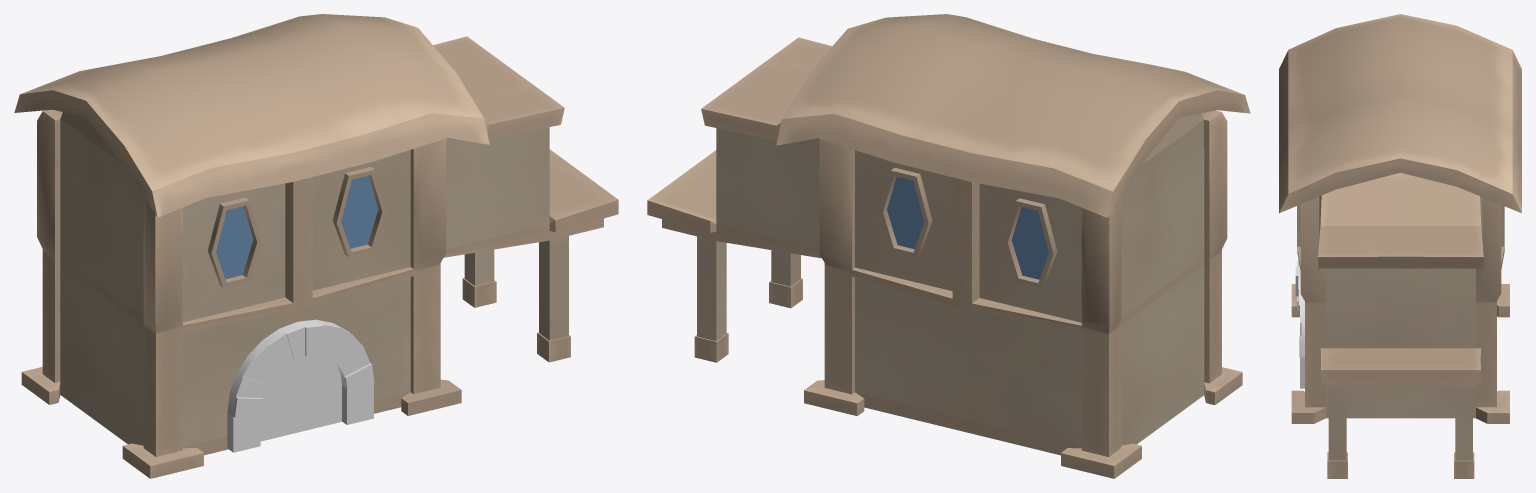
Rendered from casadesierto.fbx.
The picture shows the model from 3 angles, left to right: view 1: azimuth 30°, elevation 25°; view 2: azimuth 150°, elevation 25°; view 3: azimuth 270°, elevation 25°; orthographic projection. The views are drawn at different scales.
Visible parts, largest first — view 1: CasaBase_002, Tejado_Casa002, Puerta_Casa001; view 2: CasaBase_002, Tejado_Casa002; view 3: CasaBase_002, Tejado_Casa002, Puerta_Casa001.
Boxes of the visible parts, left/top/right/bottom form: CasaBase_002: left=21, top=36, right=618, bottom=478; Tejado_Casa002: left=14, top=14, right=489, bottom=217; Puerta_Casa001: left=227, top=319, right=374, bottom=452; CasaBase_002: left=647, top=37, right=1242, bottom=478; Tejado_Casa002: left=776, top=14, right=1250, bottom=217; CasaBase_002: left=1291, top=172, right=1509, bottom=478; Tejado_Casa002: left=1279, top=14, right=1521, bottom=213; Puerta_Casa001: left=1295, top=260, right=1304, bottom=388.
Bounding box in the file's own units: 1825 × 1235 × 932.
2 materials, 2 textured.
